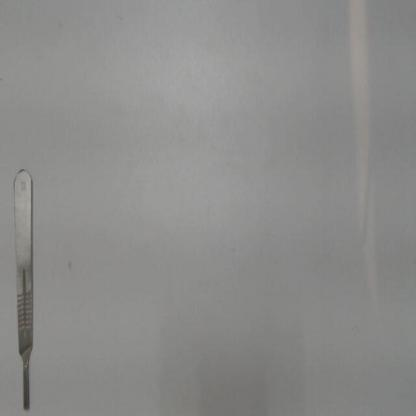No.4 BP Handle: (10, 162, 37, 413)
